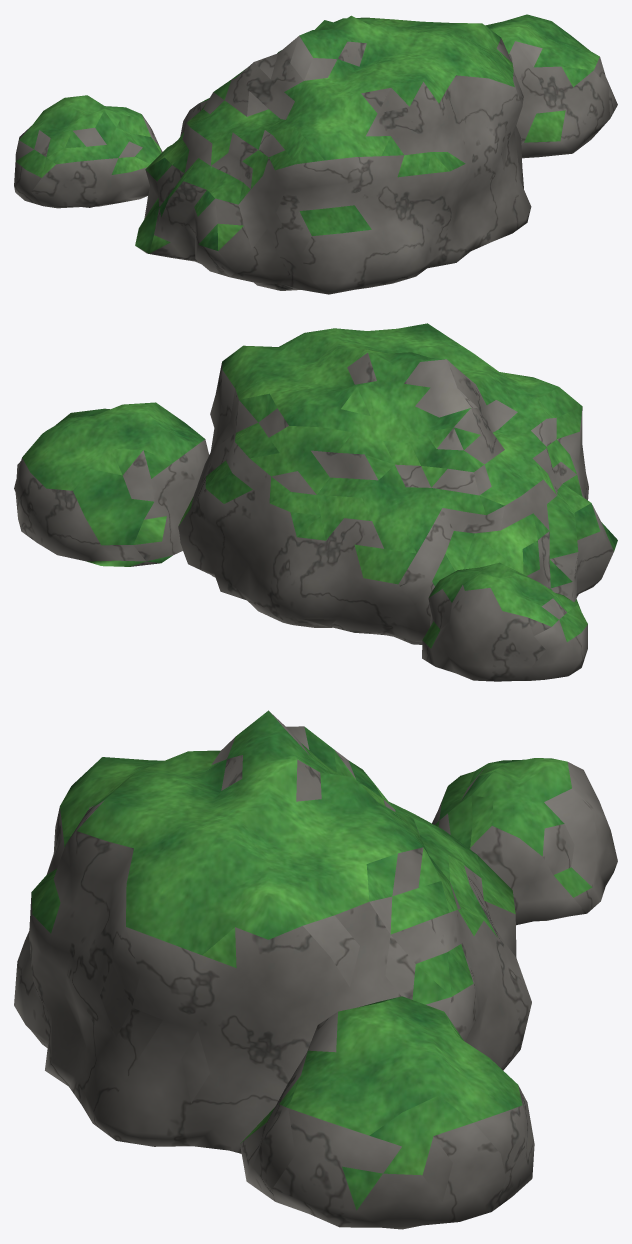
The model's file is roccia_b.glb.
3 views of the same model, one above another, from view 1: azimuth 30°, elevation 25°; view 2: azimuth 150°, elevation 25°; view 3: azimuth 270°, elevation 25° (orthographic). The views are drawn at different scales.
Parts seen in each view (by area): view 1: roccia; view 2: roccia; view 3: roccia.
Part boxes in pixels (x1,y1,x2,y2): roccia: (14, 14, 617, 294); roccia: (14, 323, 617, 681); roccia: (14, 710, 617, 1229).
Bounding box in the file's own units: 2.88 × 1.07 × 1.81.
2 materials, 2 textured.
